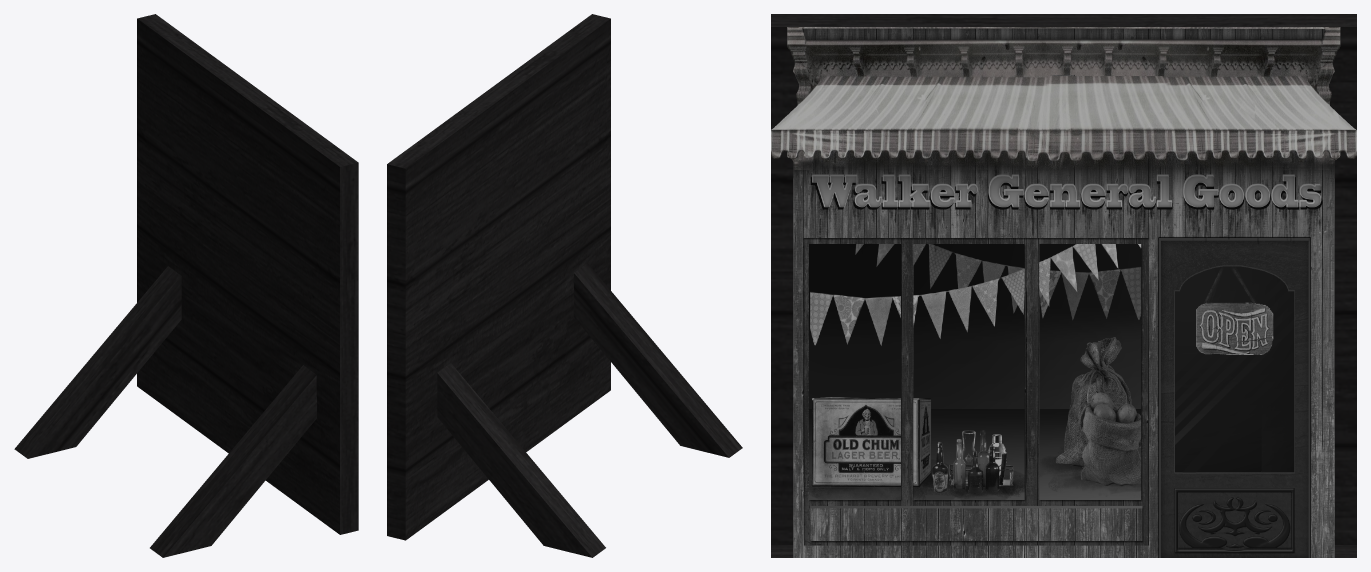
The model's file is store_cutout.fbx.
3 views of the same model, side by side, from view 1: azimuth 30°, elevation 25°; view 2: azimuth 150°, elevation 25°; view 3: azimuth 270°, elevation 25° (orthographic). The views are drawn at different scales.
Parts seen in each view (by area): view 1: Cube; view 2: Cube; view 3: Cube.
Boxes of the visible parts, left/top/right/bottom form: Cube: left=14, top=14, right=358, bottom=557; Cube: left=387, top=14, right=742, bottom=557; Cube: left=771, top=14, right=1356, bottom=557.
Size of the model in its own units: 0.9805 by 2.01 by 2.
